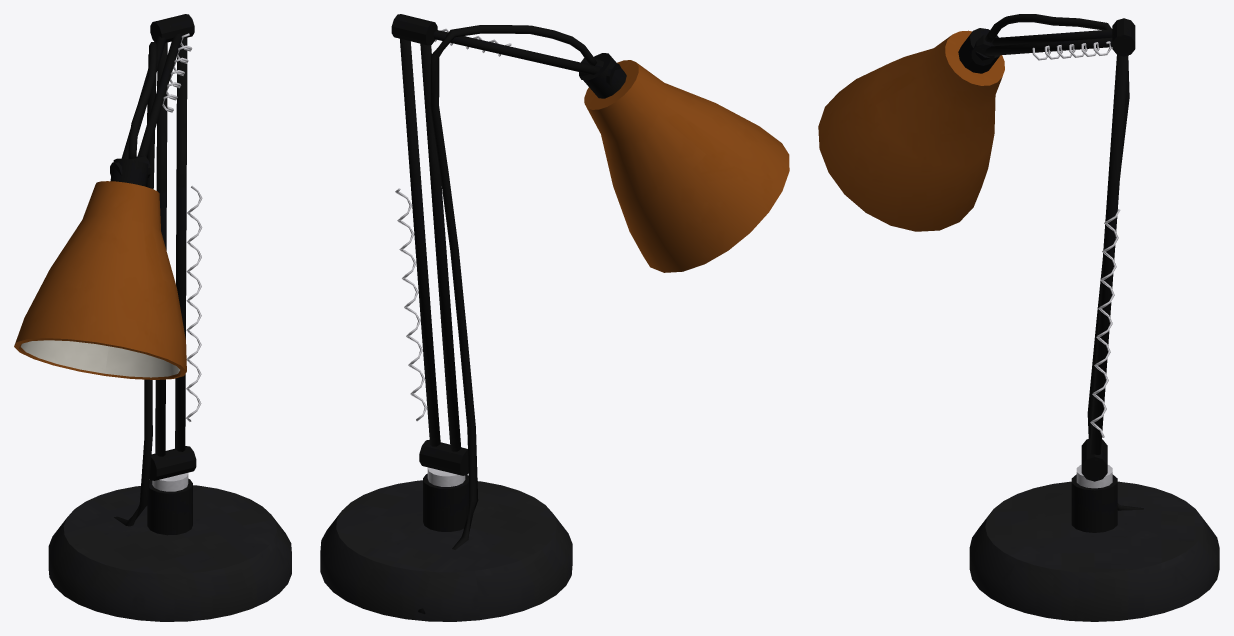
Rendered from vinyl-lamp.glb.
3 views of the same model, side by side, from view 1: azimuth 30°, elevation 25°; view 2: azimuth 150°, elevation 25°; view 3: azimuth 270°, elevation 25° (orthographic). The views are drawn at different scales.
Visible parts, largest first — view 1: lamp_n48; view 2: lamp_n48; view 3: lamp_n48.
Boxes of the visible parts, box(x1,y1,x2,y2) form: lamp_n48: box(14, 14, 291, 621); lamp_n48: box(320, 14, 789, 621); lamp_n48: box(818, 14, 1219, 621).
Bounding box in the file's own units: 0.2055 × 0.3112 × 0.2055.
Materials: 2 (1 with a texture image).
